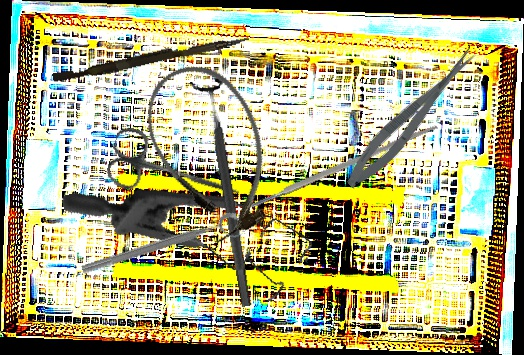Cannula: (128, 49, 294, 253)
Fixation Ring: (188, 76, 264, 310), (79, 210, 244, 288)
Iris Scissors: (103, 124, 248, 220)
Micro Scissor: (337, 43, 487, 195)
Pusher: (51, 28, 251, 88)
Scalpel Handle: (249, 121, 439, 210)
Speculum: (60, 133, 326, 349)
